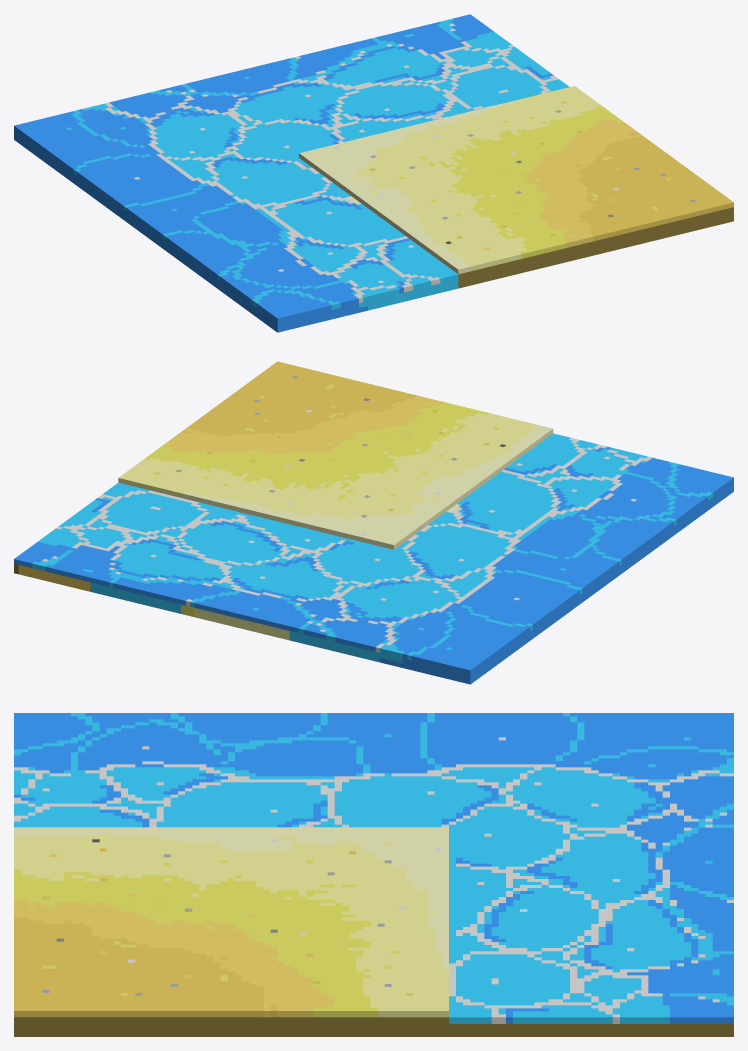
File: Beach_1_Model.fbx
The picture shows the model from 3 angles, top to bottom: view 1: azimuth 30°, elevation 25°; view 2: azimuth 150°, elevation 25°; view 3: azimuth 270°, elevation 25°; orthographic projection. The views are drawn at different scales.
Visible parts, largest first — view 1: bitch_edge_1_001; view 2: bitch_edge_1_001; view 3: bitch_edge_1_001.
Part boxes in pixels (x1,y1,x2,y2): bitch_edge_1_001: (14, 14, 733, 332); bitch_edge_1_001: (14, 361, 733, 684); bitch_edge_1_001: (14, 713, 733, 1036).
Size of the model in its own units: 101 by 4 by 101.
